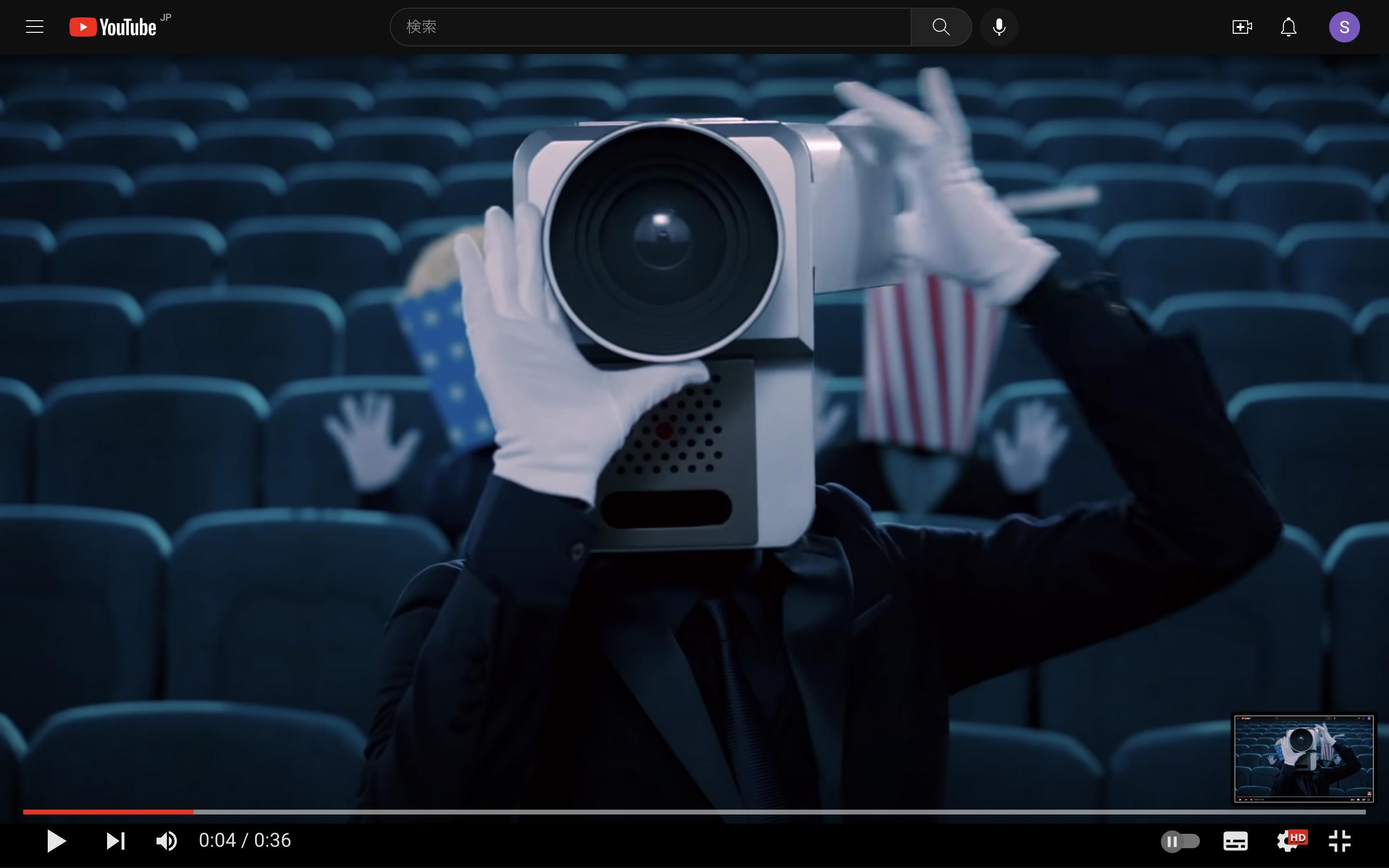no more kid: (482, 95, 940, 588)
